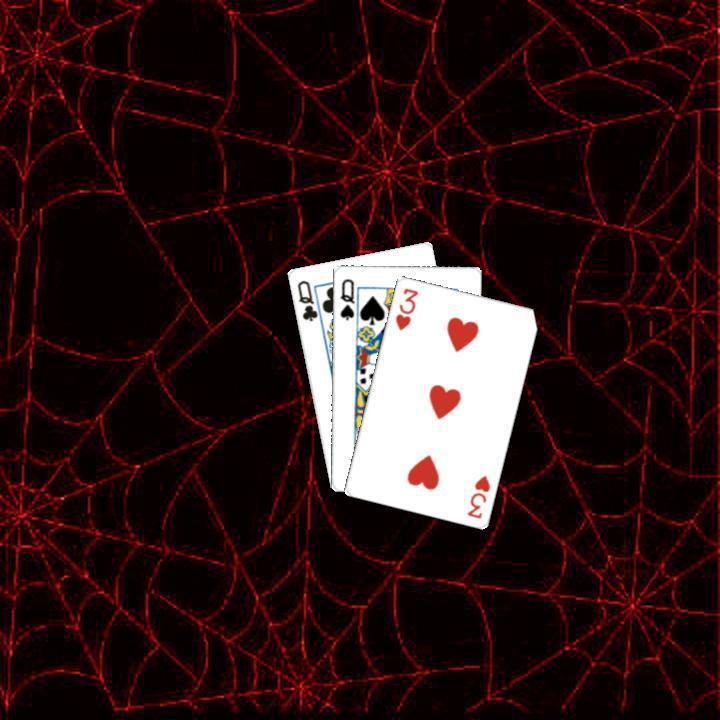3: (462, 471, 492, 520), (391, 283, 420, 332)
Q: (292, 276, 319, 323), (335, 274, 356, 322)
